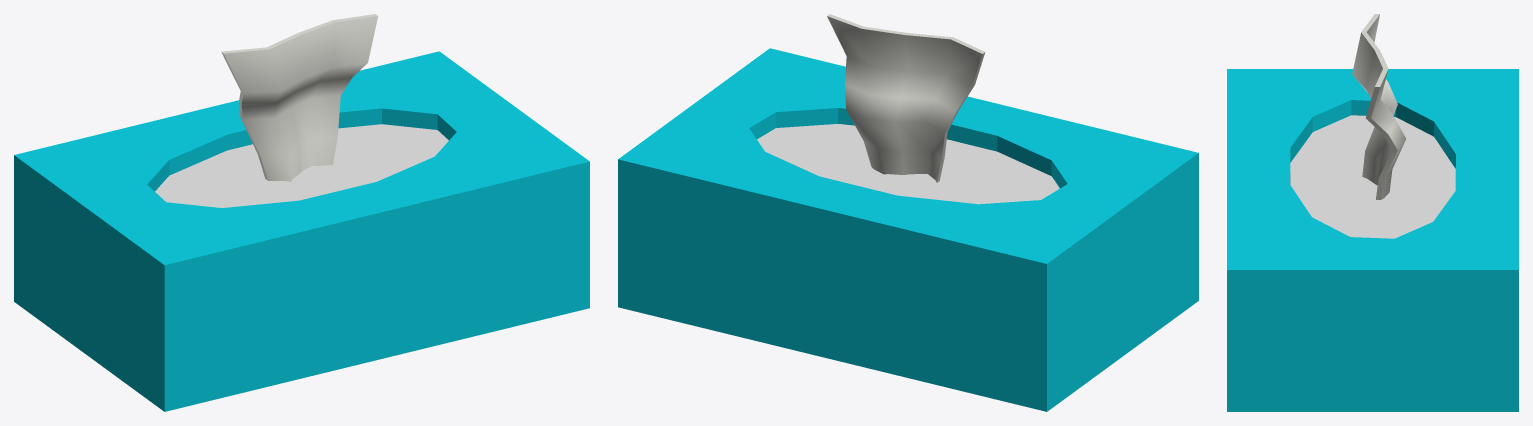
Rendered from TissueBox.fbx.
3 views of the same model, side by side, from view 1: azimuth 30°, elevation 25°; view 2: azimuth 150°, elevation 25°; view 3: azimuth 270°, elevation 25° (orthographic). The views are drawn at different scales.
Visible parts, largest first — view 1: TissueBox; view 2: TissueBox; view 3: TissueBox.
Boxes of the visible parts, x1,y1,x2,y2 form: TissueBox: (14,14,589,411); TissueBox: (618,14,1198,411); TissueBox: (1227,14,1518,411).
Bounding box in the file's own units: 44.16 × 26.73 × 27.08.
